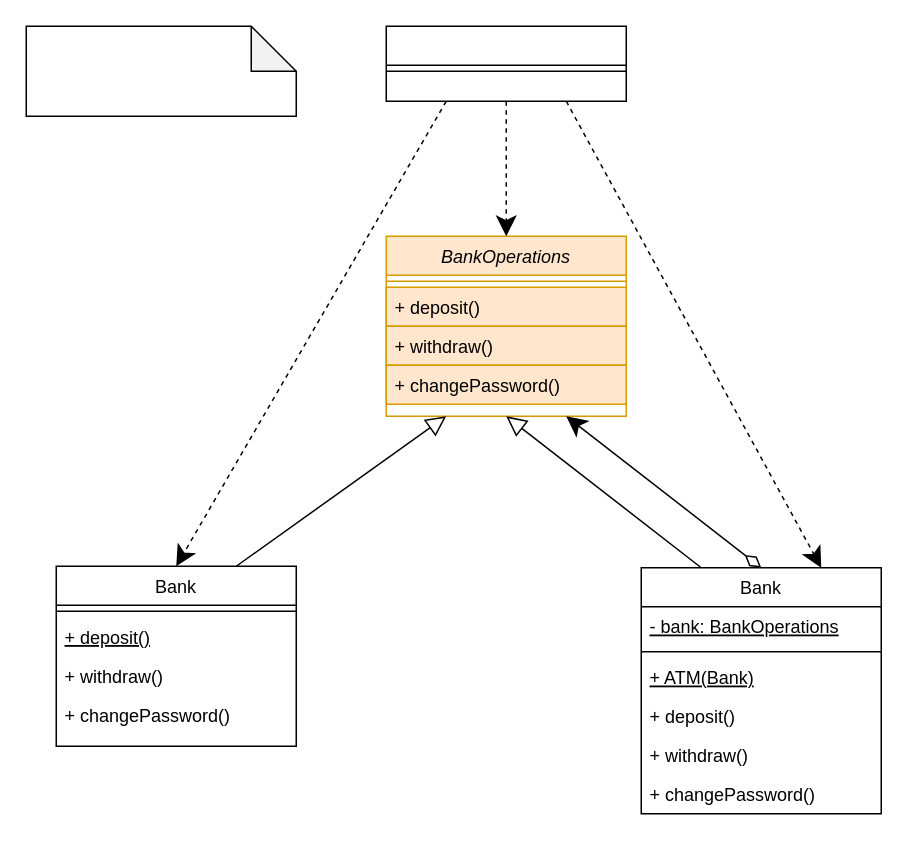
Image size: 908x845. Some labels were removed from this diagram. The shapes that lost their labels are listed below. From the top down, each one's centre as x and y in pixels, then its label:
At pixel 160 70: "Proxy ATM".
At pixel 505 63: "Client".
